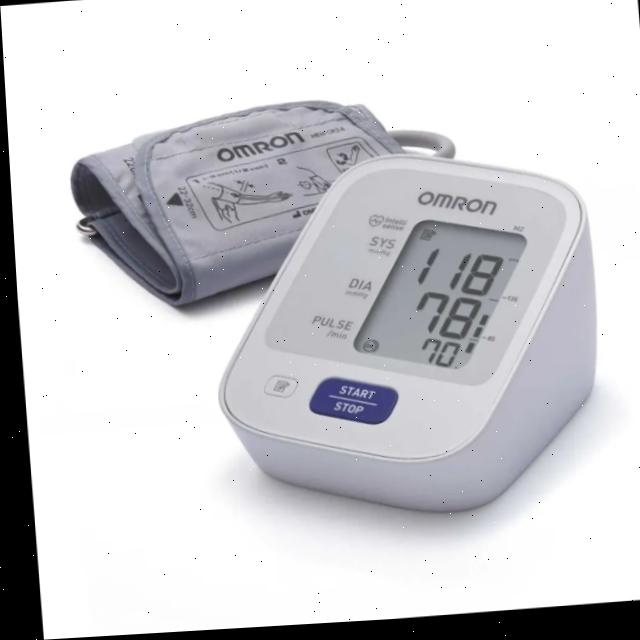dia: (400, 288, 492, 351)
pul: (394, 332, 465, 385)
ssd: (344, 190, 528, 404)
sys: (399, 243, 507, 310)
